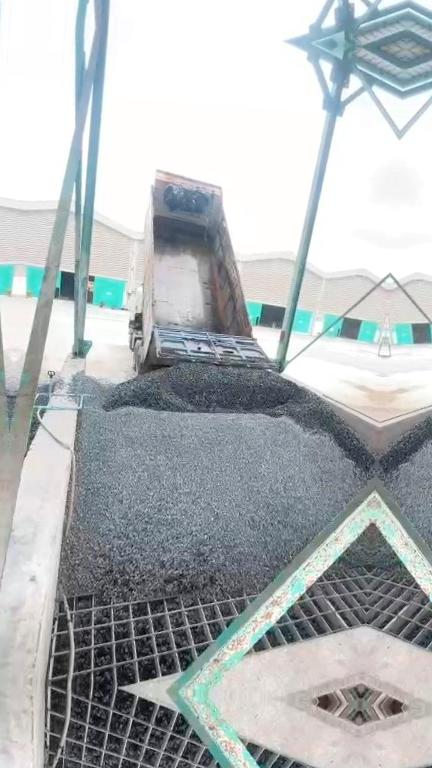gravel: (59, 360, 375, 599), (327, 523, 372, 577)
sand: (357, 386, 382, 419)
